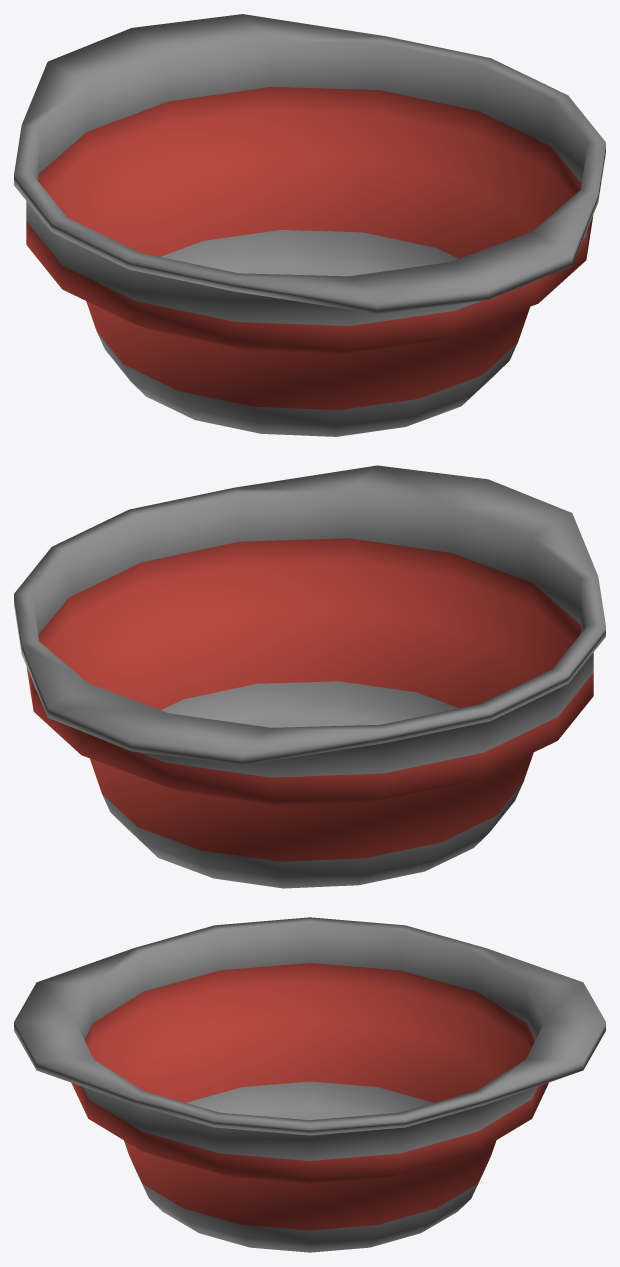
The model's file is red_bowl.dae.
3 renders of one model, top to bottom at view 1: azimuth 30°, elevation 25°; view 2: azimuth 150°, elevation 25°; view 3: azimuth 270°, elevation 25°, orthographic. The views are drawn at different scales.
Parts seen in each view (by area): view 1: Circle_002; view 2: Circle_002; view 3: Circle_002.
Boxes of the visible parts, box(x1,y1,x2,y2) form: Circle_002: box(14, 14, 605, 436); Circle_002: box(14, 465, 605, 888); Circle_002: box(14, 917, 605, 1252).
Bounding box in the file's own units: 0.2803 × 0.3352 × 0.1027.
